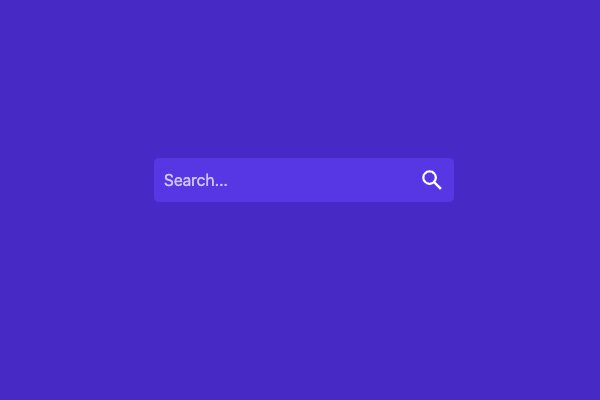search_box: (155, 158, 454, 201)
